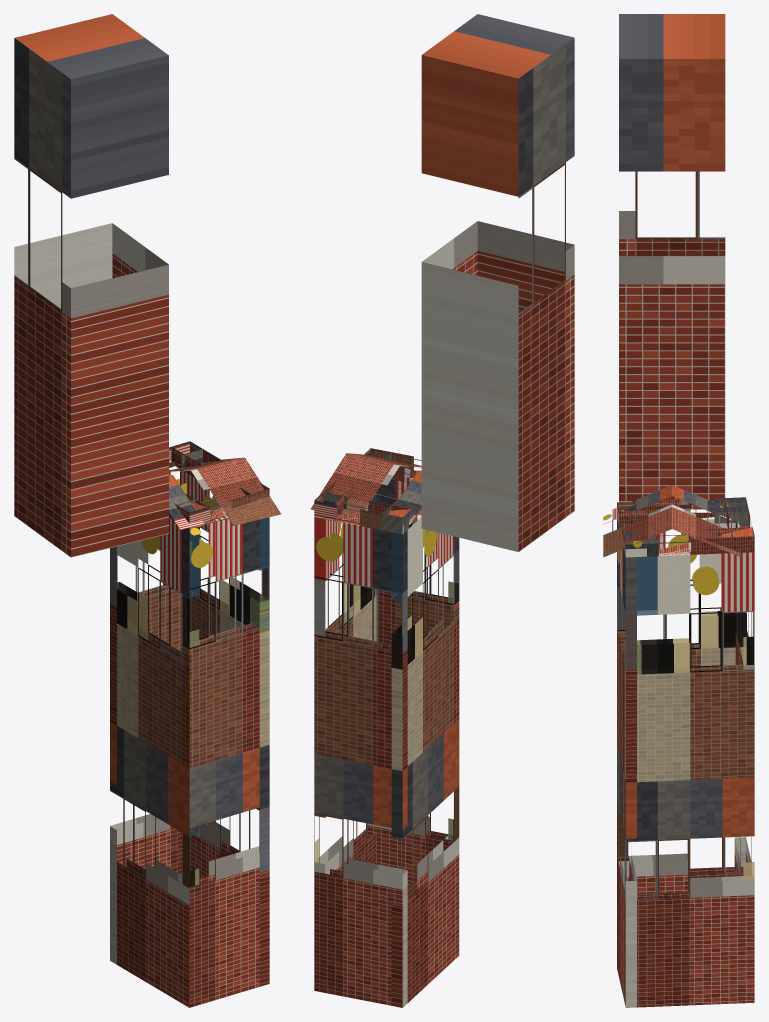
3 views of the same model, side by side, from view 1: azimuth 30°, elevation 25°; view 2: azimuth 150°, elevation 25°; view 3: azimuth 270°, elevation 25° (orthographic). The views are drawn at different scales.
Visible parts, largest first — view 1: 372836632__chimney_0_xb, 372836632__wall_0_xb, 372836632__wall_3_xb, 372836632__wall_1_xb, 372836632__wall_2_xb, 372836632_roof_-1_xb, 372836632__wall_1_xf, 372836632__wall_3_xf, 372836632__cornice_0, 372836632__cornice_1; view 2: 372836632__chimney_0_xb, 372836632__wall_2_xb, 372836632__wall_3_xb, 372836632__wall_0_xb, 372836632__wall_1_xb, 372836632_roof_1_xb, 372836632__wall_3_xf, 372836632__cornice_2, 372836632__cornice_3, 372836632__cornice_0, 372836632__wall_1_xf; view 3: 372836632__chimney_0_xb, 372836632__wall_1_xb, 372836632__wall_0_xb, 372836632__wall_3_xb, 372836632__wall_1_xf, 372836632__cornice_1, 372836632_roof_-1_xb, 372836632_roof_1_xb, 372836632__cornice_3, 372836632__wall_2_xb, 372836632__wall_3_xf, 372836632__wall_2_xf (+1 smaller).
Part boxes in pixels (<box>): 372836632__chimney_0_xb: <box>14,14,168,557</box>; 372836632__wall_0_xb: <box>182,514,269,1007</box>; 372836632__wall_3_xb: <box>110,517,199,1007</box>; 372836632__wall_1_xb: <box>180,470,269,986</box>; 372836632__wall_2_xb: <box>110,469,186,964</box>; 372836632_roof_-1_xb: <box>169,457,280,535</box>; 372836632__wall_1_xf: <box>220,518,269,632</box>; 372836632__wall_3_xf: <box>117,527,198,886</box>; 372836632__cornice_0: <box>177,488,269,527</box>; 372836632__cornice_1: <box>171,441,269,495</box>; 372836632__chimney_0_xb: <box>421,14,574,551</box>; 372836632__wall_2_xb: <box>314,522,407,1007</box>; 372836632__wall_3_xb: <box>391,514,459,1007</box>; 372836632__wall_0_xb: <box>366,477,459,888</box>; 372836632__wall_1_xb: <box>314,493,376,874</box>; 372836632_roof_1_xb: <box>310,453,421,524</box>; 372836632__wall_3_xf: <box>392,533,453,839</box>; 372836632__cornice_2: <box>314,492,411,533</box>; 372836632__cornice_3: <box>382,500,421,534</box>; 372836632__cornice_0: <box>370,448,421,481</box>; 372836632__wall_1_xf: <box>342,495,376,615</box>; 372836632__chimney_0_xb: <box>619,14,725,509</box>; 372836632__wall_1_xb: <box>624,550,754,1007</box>; 372836632__wall_0_xb: <box>617,549,636,1007</box>; 372836632__wall_3_xb: <box>617,517,746,893</box>; 372836632__wall_1_xf: <box>625,556,689,673</box>; 372836632__cornice_1: <box>624,527,754,556</box>; 372836632_roof_-1_xb: <box>603,485,671,557</box>; 372836632_roof_1_xb: <box>672,485,740,557</box>; 372836632__cornice_3: <box>617,497,747,527</box>; 372836632__wall_2_xb: <box>734,522,754,880</box>; 372836632__wall_3_xf: <box>617,521,746,855</box>; 372836632__wall_2_xf: <box>743,637,754,880</box>.
Bounding box in the file's own units: 0.3097 × 1.4 × 0.213.
1 material, 1 textured.
